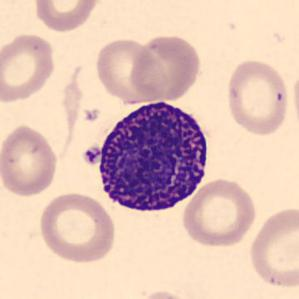Basophil: (92, 94, 214, 218)
Platelets: (82, 144, 103, 167)
RBC: (36, 190, 118, 265), (180, 176, 259, 249), (223, 57, 292, 138), (130, 32, 203, 103), (93, 36, 165, 104), (247, 202, 298, 292), (0, 122, 60, 198), (0, 31, 57, 104), (32, 0, 101, 33), (135, 287, 200, 299), (290, 65, 299, 132)
